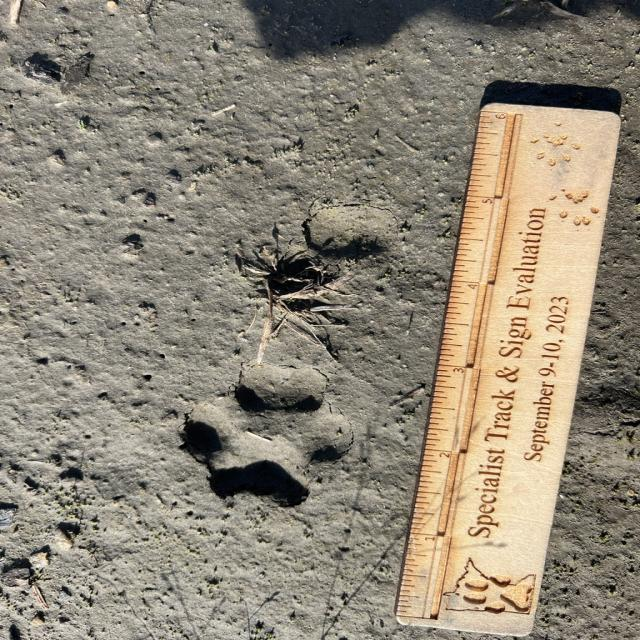canid: (182, 365, 353, 507)
